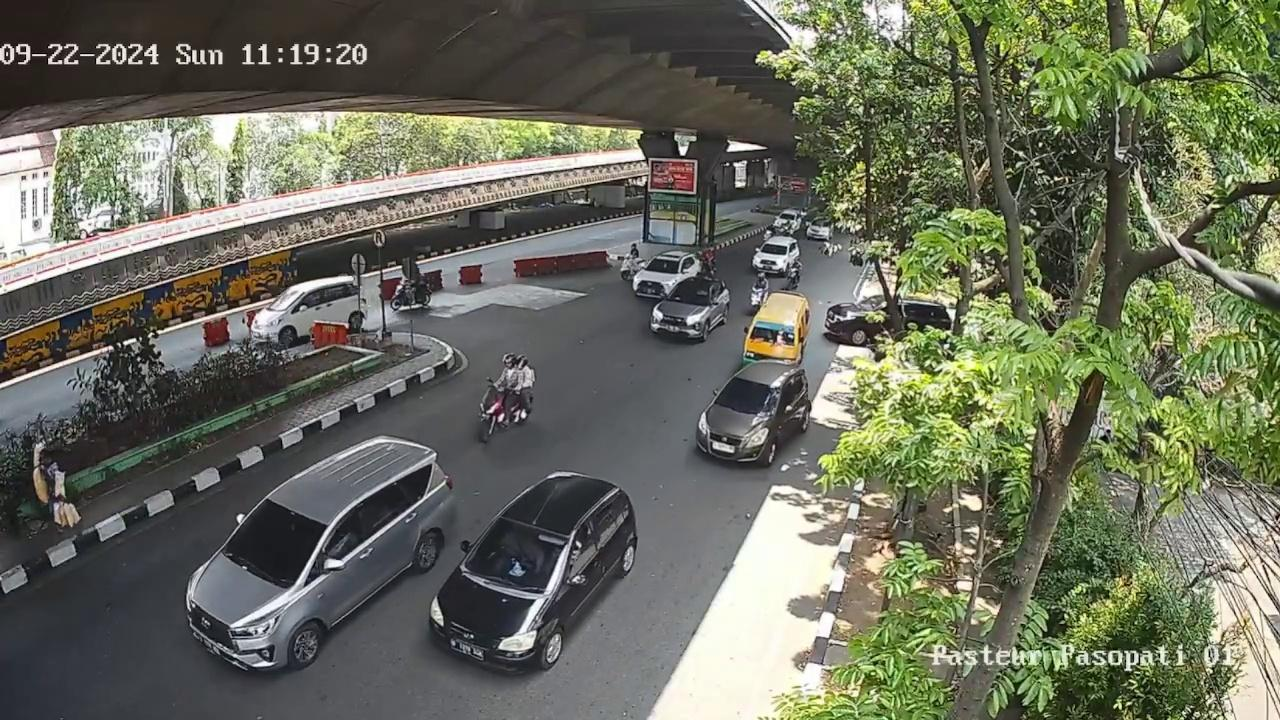pakai: (495, 532, 542, 573)
windshield: (218, 498, 329, 584), (467, 515, 570, 590), (718, 375, 777, 417), (747, 318, 799, 345), (666, 285, 712, 306), (647, 260, 682, 274), (762, 242, 789, 255)
